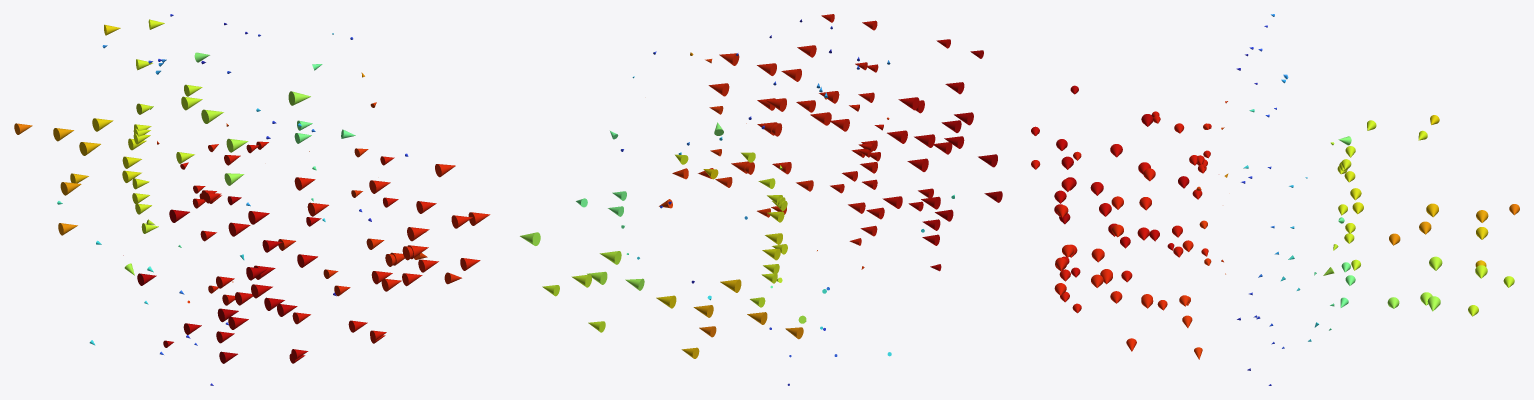
File: LineasCorrienteH2-O2_mh2-1.38_V-1.glb
3 renders of one model, left to right at view 1: azimuth 30°, elevation 25°; view 2: azimuth 150°, elevation 25°; view 3: azimuth 270°, elevation 25°, orthographic. The views are drawn at different scales.
Size of the model in its own units: 0.000921 by 0.000951 by 0.00123.
Materials: 2 (2 with a texture image).
